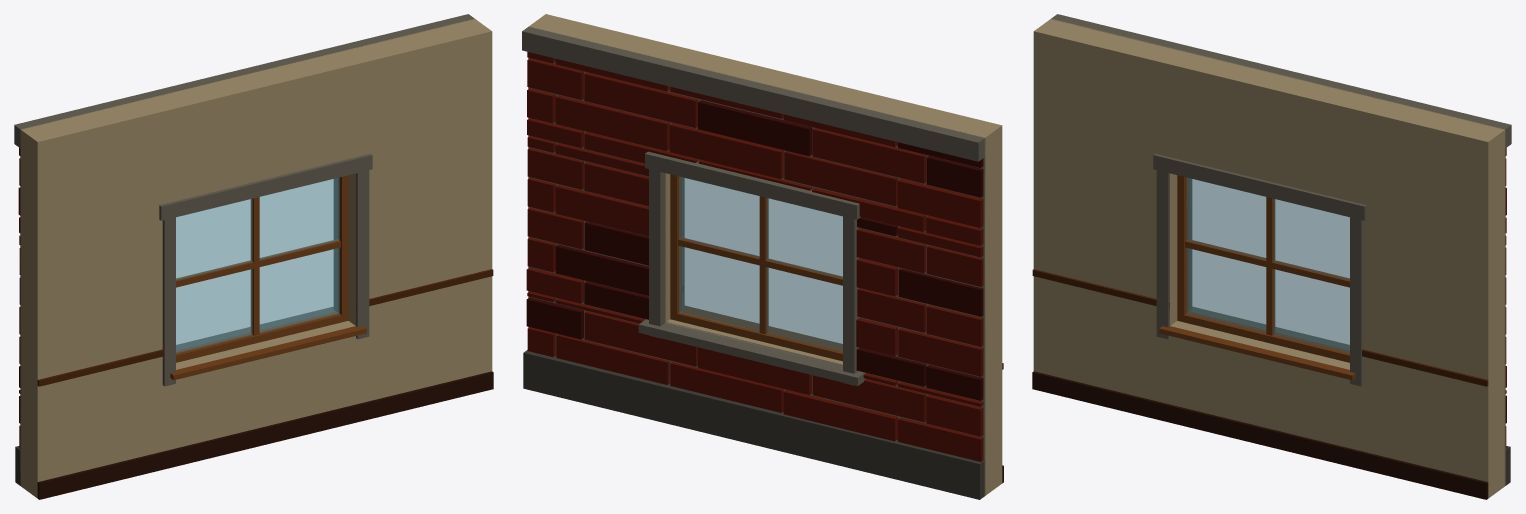
Rendered from SM_Bld_Wall_Brick_Window.glb.
3 renders of one model, left to right at view 1: azimuth 30°, elevation 25°; view 2: azimuth 150°, elevation 25°; view 3: azimuth 330°, elevation 25°, orthographic.
Parts seen in each view (by area): view 1: SM_Bld_Wall_Brick_Window; view 2: SM_Bld_Wall_Brick_Window; view 3: SM_Bld_Wall_Brick_Window.
Boxes of the visible parts, x1,y1,x2,y2 form: SM_Bld_Wall_Brick_Window: (14, 14, 493, 499); SM_Bld_Wall_Brick_Window: (522, 14, 1003, 499); SM_Bld_Wall_Brick_Window: (1032, 14, 1511, 499).
Size of the model in its own units: 4 by 3 by 0.47.
Materials: 2 (2 with a texture image).
